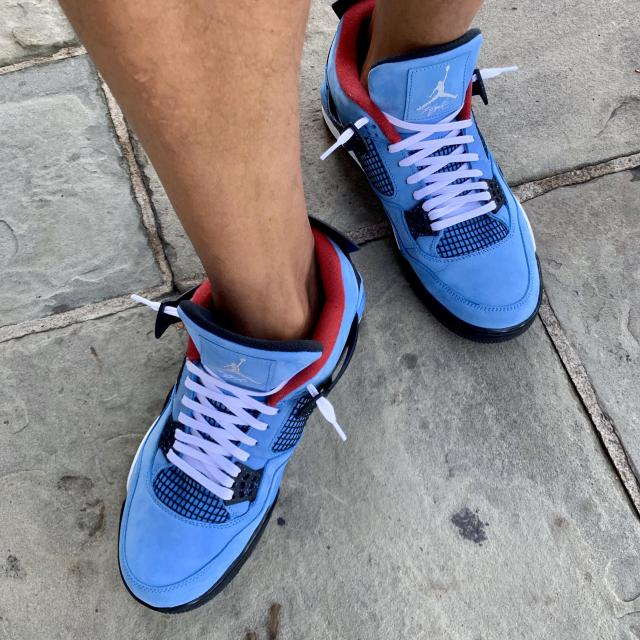shoe: (112, 220, 368, 612), (321, 2, 551, 344)
